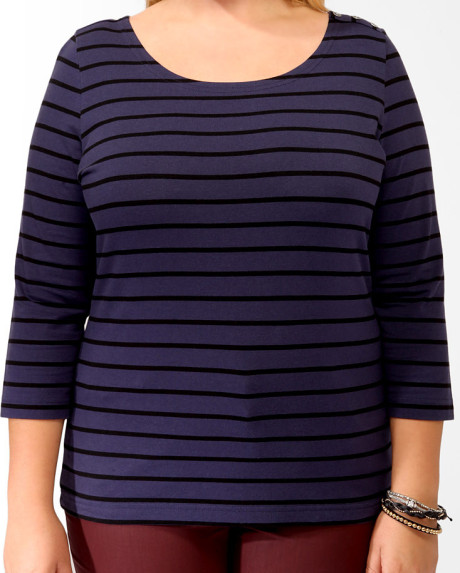C_long sleeve: (4, 11, 460, 537)
